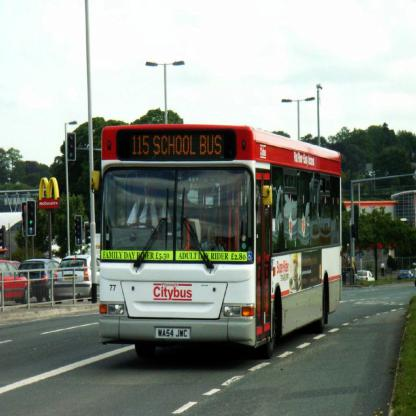Bus: (90, 122, 342, 362)
